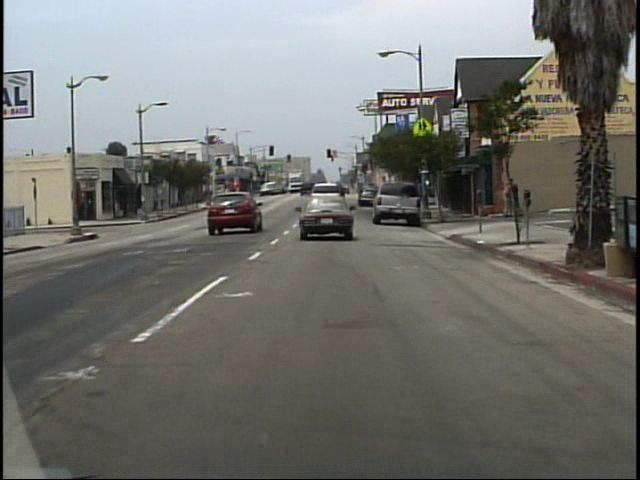person: (509, 177, 521, 217), (500, 182, 513, 218)
